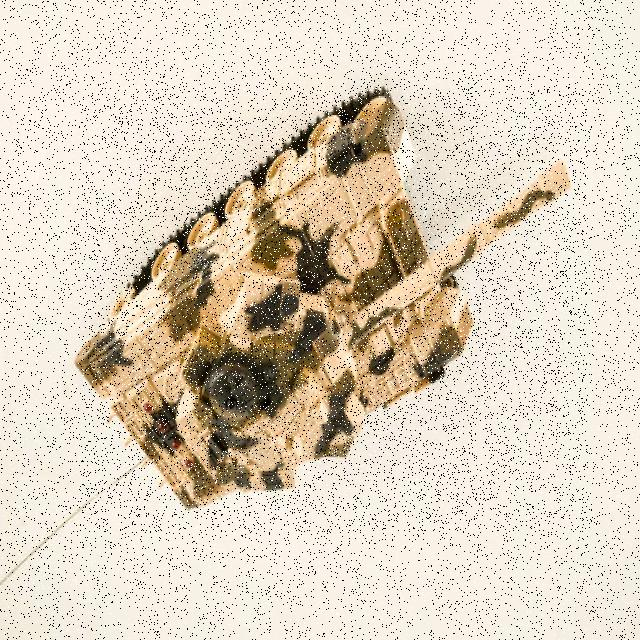MIL_MBT: (80, 86, 588, 532)
